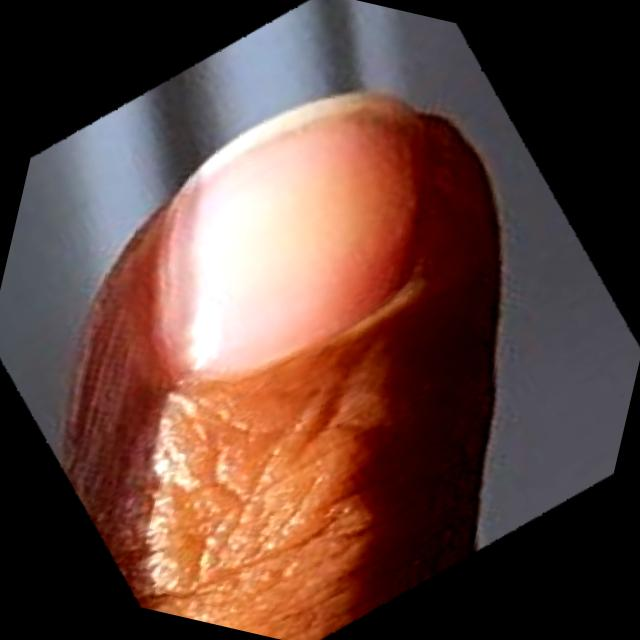Nail: (161, 91, 425, 375)
